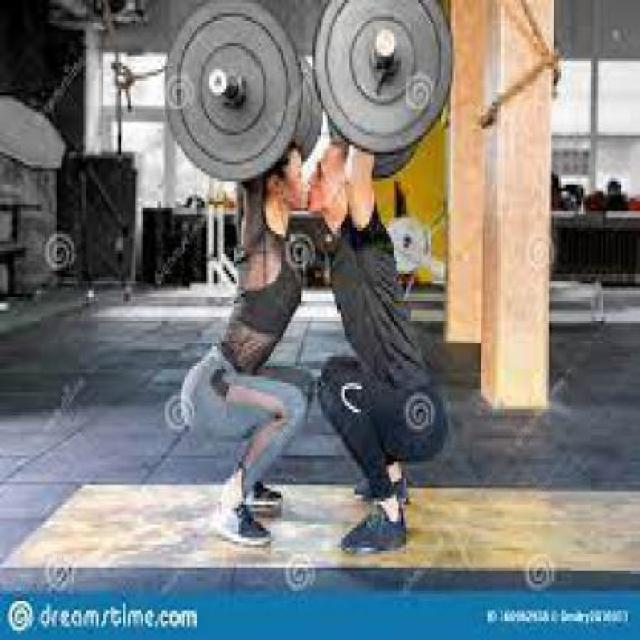barbell: (158, 1, 304, 184), (309, 1, 458, 161)
